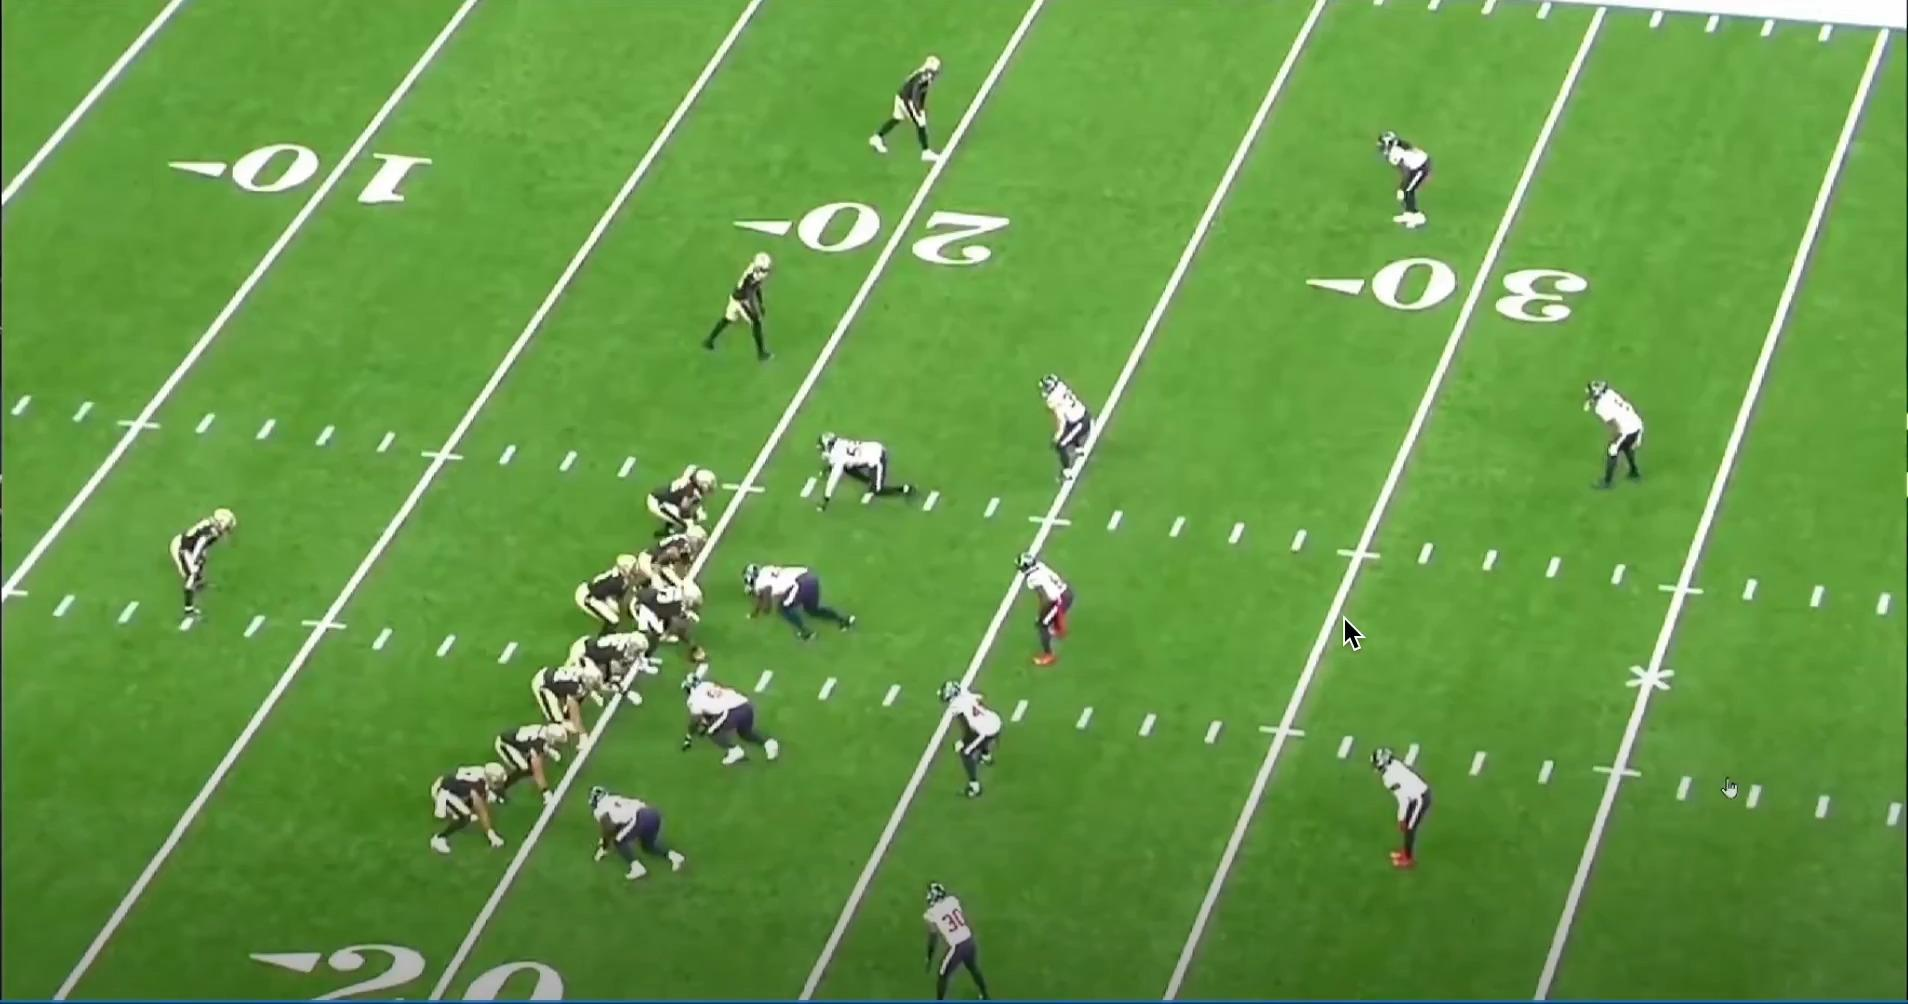player: (579, 785, 688, 890), (678, 669, 791, 769), (737, 565, 861, 649), (694, 249, 779, 370), (857, 50, 943, 169), (912, 882, 993, 1004), (1376, 747, 1446, 879), (812, 433, 921, 515), (161, 509, 235, 627), (418, 760, 504, 861), (941, 674, 1007, 799), (1015, 552, 1080, 674), (1581, 377, 1647, 497), (640, 527, 720, 624), (1045, 368, 1106, 491), (574, 630, 661, 712), (631, 580, 712, 668), (489, 721, 571, 807), (535, 666, 612, 750), (653, 467, 728, 548), (1380, 131, 1438, 235), (568, 552, 640, 630)
